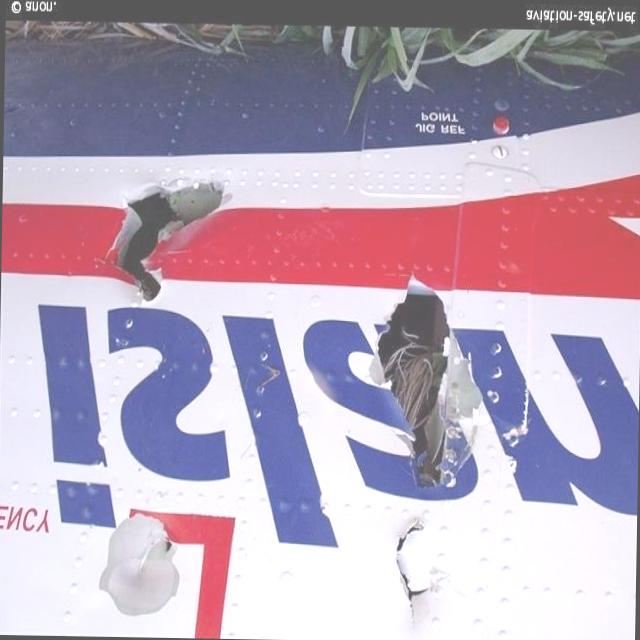crack: (363, 265, 488, 499), (94, 170, 228, 307), (388, 517, 434, 631), (134, 530, 178, 576)
